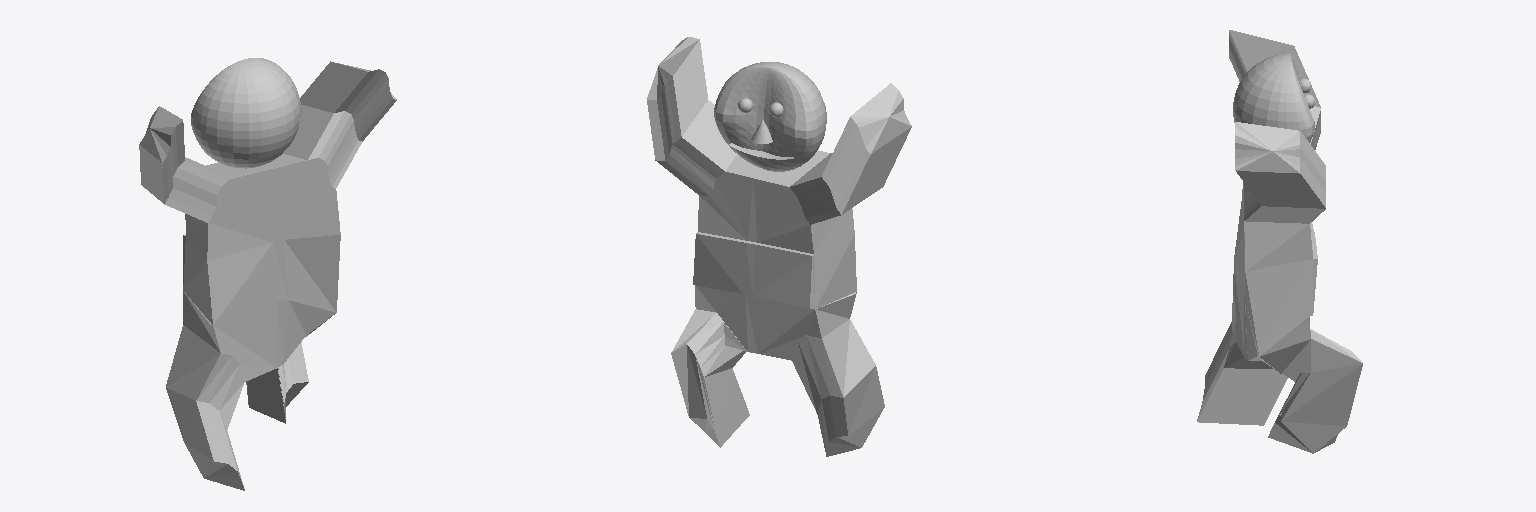
File: man_000009.obj
3 renders of one model, left to right at view 1: azimuth 30°, elevation 25°; view 2: azimuth 150°, elevation 25°; view 3: azimuth 270°, elevation 25°, orthographic.
Visible parts, largest first — view 1: Cube; view 2: Cube; view 3: Cube.
Boxes of the visible parts, x1=… form: Cube: x1=139, y1=58, x2=396, y2=490; Cube: x1=647, y1=37, x2=911, y2=456; Cube: x1=1197, y1=30, x2=1362, y2=453.
Bounding box in the file's own units: 79.08 × 124 × 48.03.